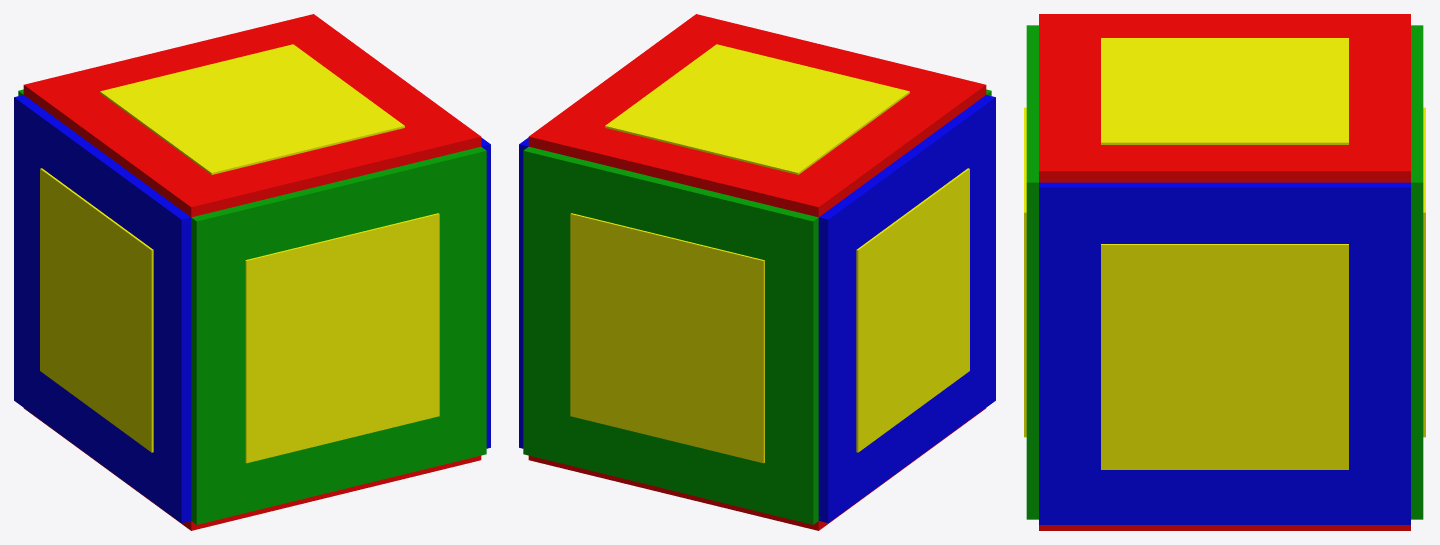
File: cadboxx_standard.glb
The picture shows the model from 3 angles, left to right: view 1: azimuth 30°, elevation 25°; view 2: azimuth 150°, elevation 25°; view 3: azimuth 270°, elevation 25°; orthographic projection. The views are drawn at different scales.
Visible parts, largest first — view 1: Object_48, Object_46, Object_26, Object_18, Object_24, Object_16, Object_11, Object_33; view 2: Object_41, Object_39, Object_26, Object_18, Object_24, Object_16, Object_11, Object_33; view 3: Object_33, Object_31, Object_18, Object_16, Object_41, Object_48, Object_11, Object_39, Object_46.
Boxes of the visible parts, x1,y1,x2,y2 form: Object_48: (191, 147, 486, 524); Object_46: (245, 213, 439, 463); Object_26: (14, 95, 191, 523); Object_18: (23, 14, 481, 217); Object_24: (40, 168, 153, 452); Object_16: (100, 44, 404, 174); Object_11: (24, 408, 481, 530); Object_33: (481, 137, 490, 448); Object_41: (523, 147, 818, 524); Object_39: (570, 213, 764, 463); Object_26: (818, 95, 995, 523); Object_18: (528, 14, 986, 217); Object_24: (856, 168, 969, 452); Object_16: (605, 44, 909, 174); Object_11: (528, 408, 985, 530); Object_33: (519, 137, 528, 448); Object_33: (1039, 182, 1410, 524); Object_31: (1101, 244, 1348, 469); Object_18: (1039, 14, 1410, 182); Object_16: (1101, 38, 1348, 144); Object_41: (1411, 25, 1423, 519); Object_48: (1026, 25, 1038, 519); Object_11: (1039, 525, 1410, 530); Object_39: (1423, 107, 1425, 437); Object_46: (1024, 107, 1026, 437).
Size of the model in its own units: 16.2 by 16.2 by 16.2.
